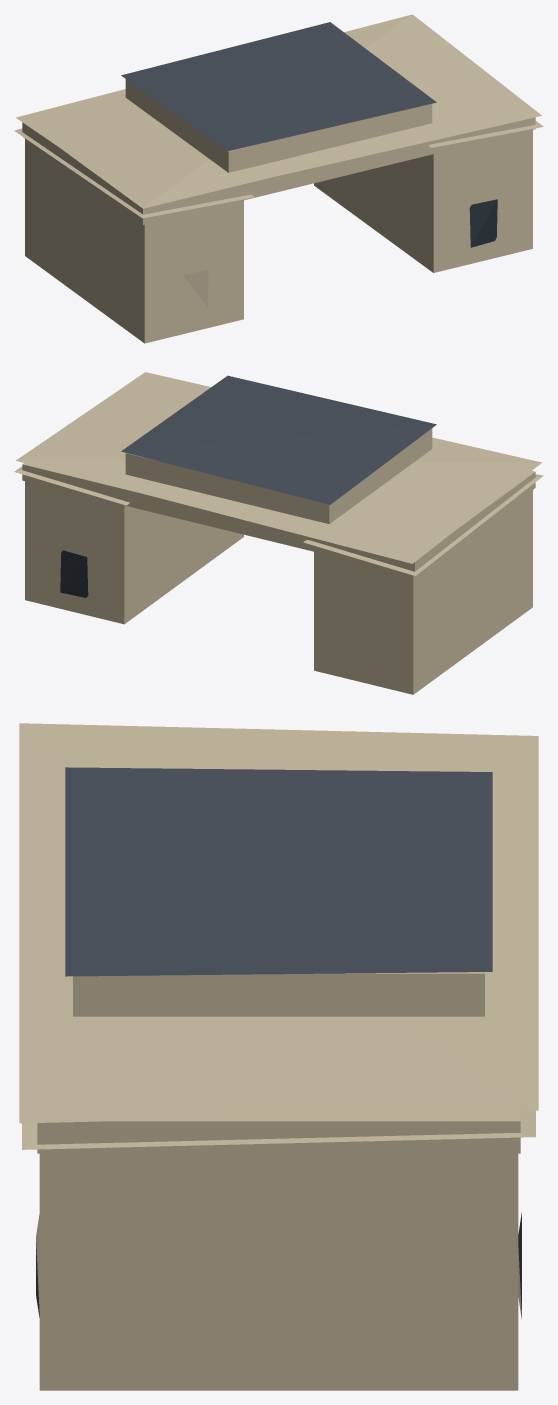
Rendered from haarlemmerpoort.lod2.glb.
3 views of the same model, one above another, from view 1: azimuth 30°, elevation 25°; view 2: azimuth 150°, elevation 25°; view 3: azimuth 270°, elevation 25° (orthographic). The views are drawn at different scales.
Visible parts, largest first — view 1: lod2; view 2: lod2; view 3: lod2.
Part boxes in pixels (x1,y1,x2,y2): lod2: (14,14,543,343); lod2: (14,372,543,694); lod2: (19,723,538,1390).
Size of the model in its own units: 36.36 by 14.35 by 20.37.
